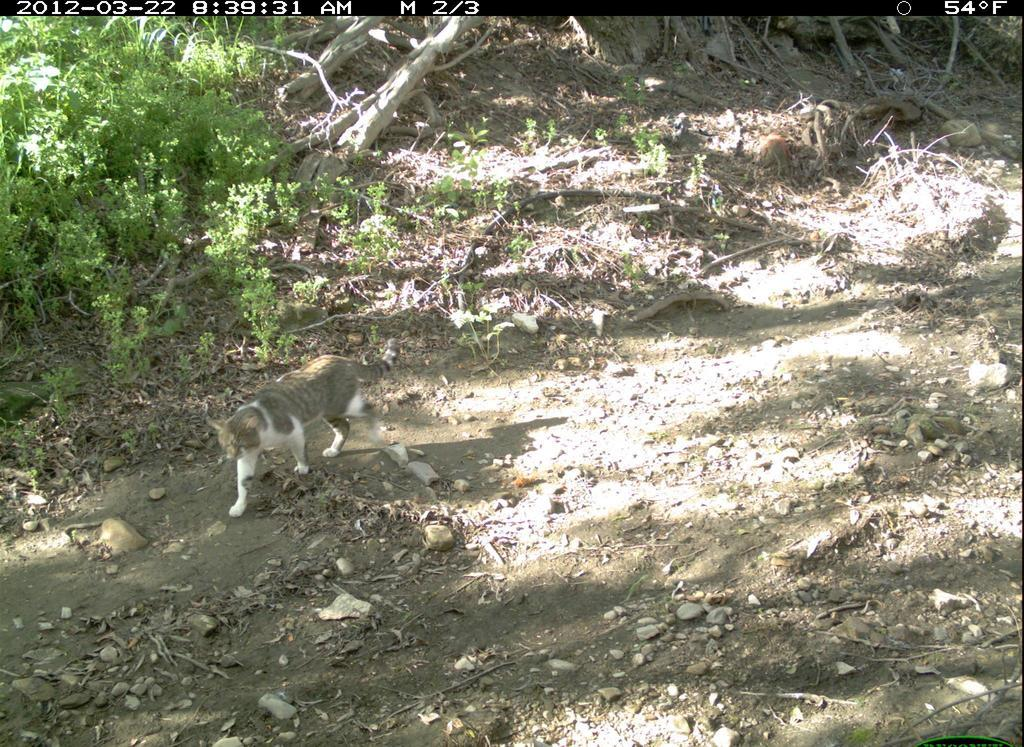cat: (204, 331, 408, 532)
